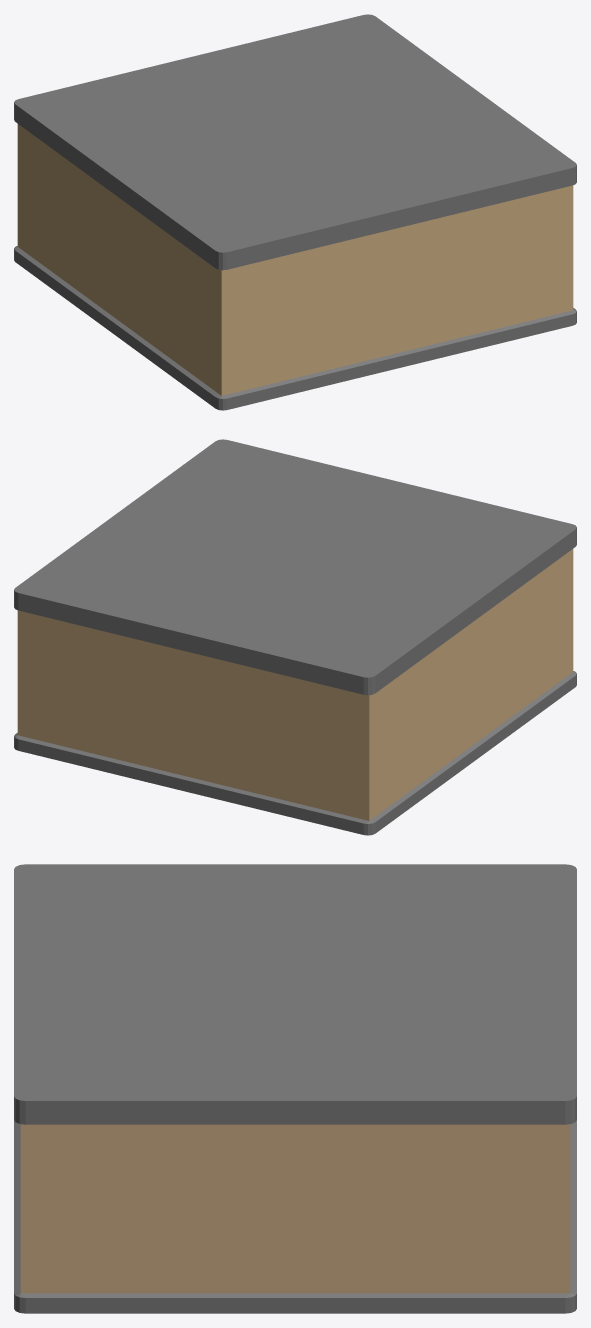
Rendered from Table_cash_register.fbx.
The picture shows the model from 3 angles, top to bottom: view 1: azimuth 30°, elevation 25°; view 2: azimuth 150°, elevation 25°; view 3: azimuth 270°, elevation 25°; orthographic projection. The views are drawn at different scales.
Visible parts, largest first — view 1: Cube.002; view 2: Cube.002; view 3: Cube.002.
Part boxes in pixels (x1,y1,x2,y2): Cube.002: [14, 14, 576, 410]; Cube.002: [14, 439, 576, 835]; Cube.002: [14, 864, 576, 1313].
Size of the model in its own units: 200 by 83.76 by 201.
